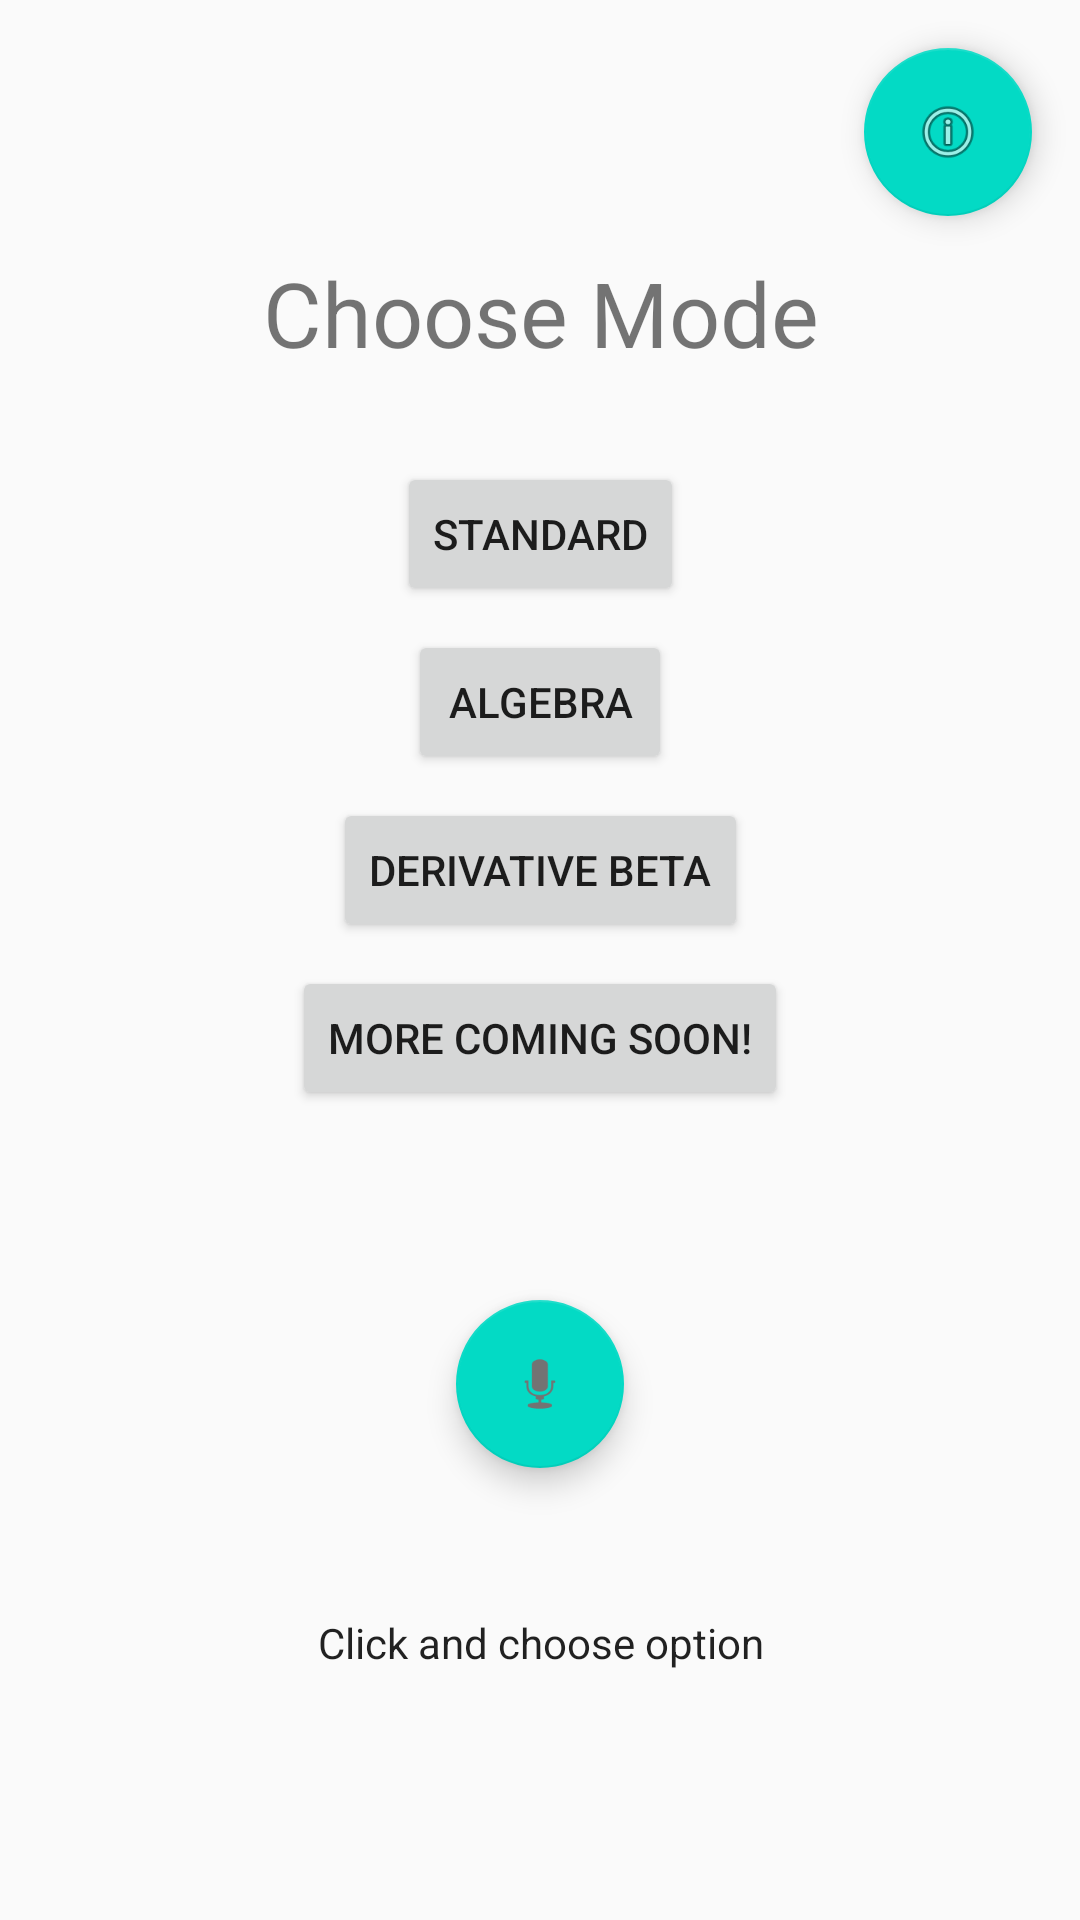

Icon click points for this 1080w x 1920h phone screenshot, format [x,y]:
info details: [948,132]
speak now: [540,1384]
